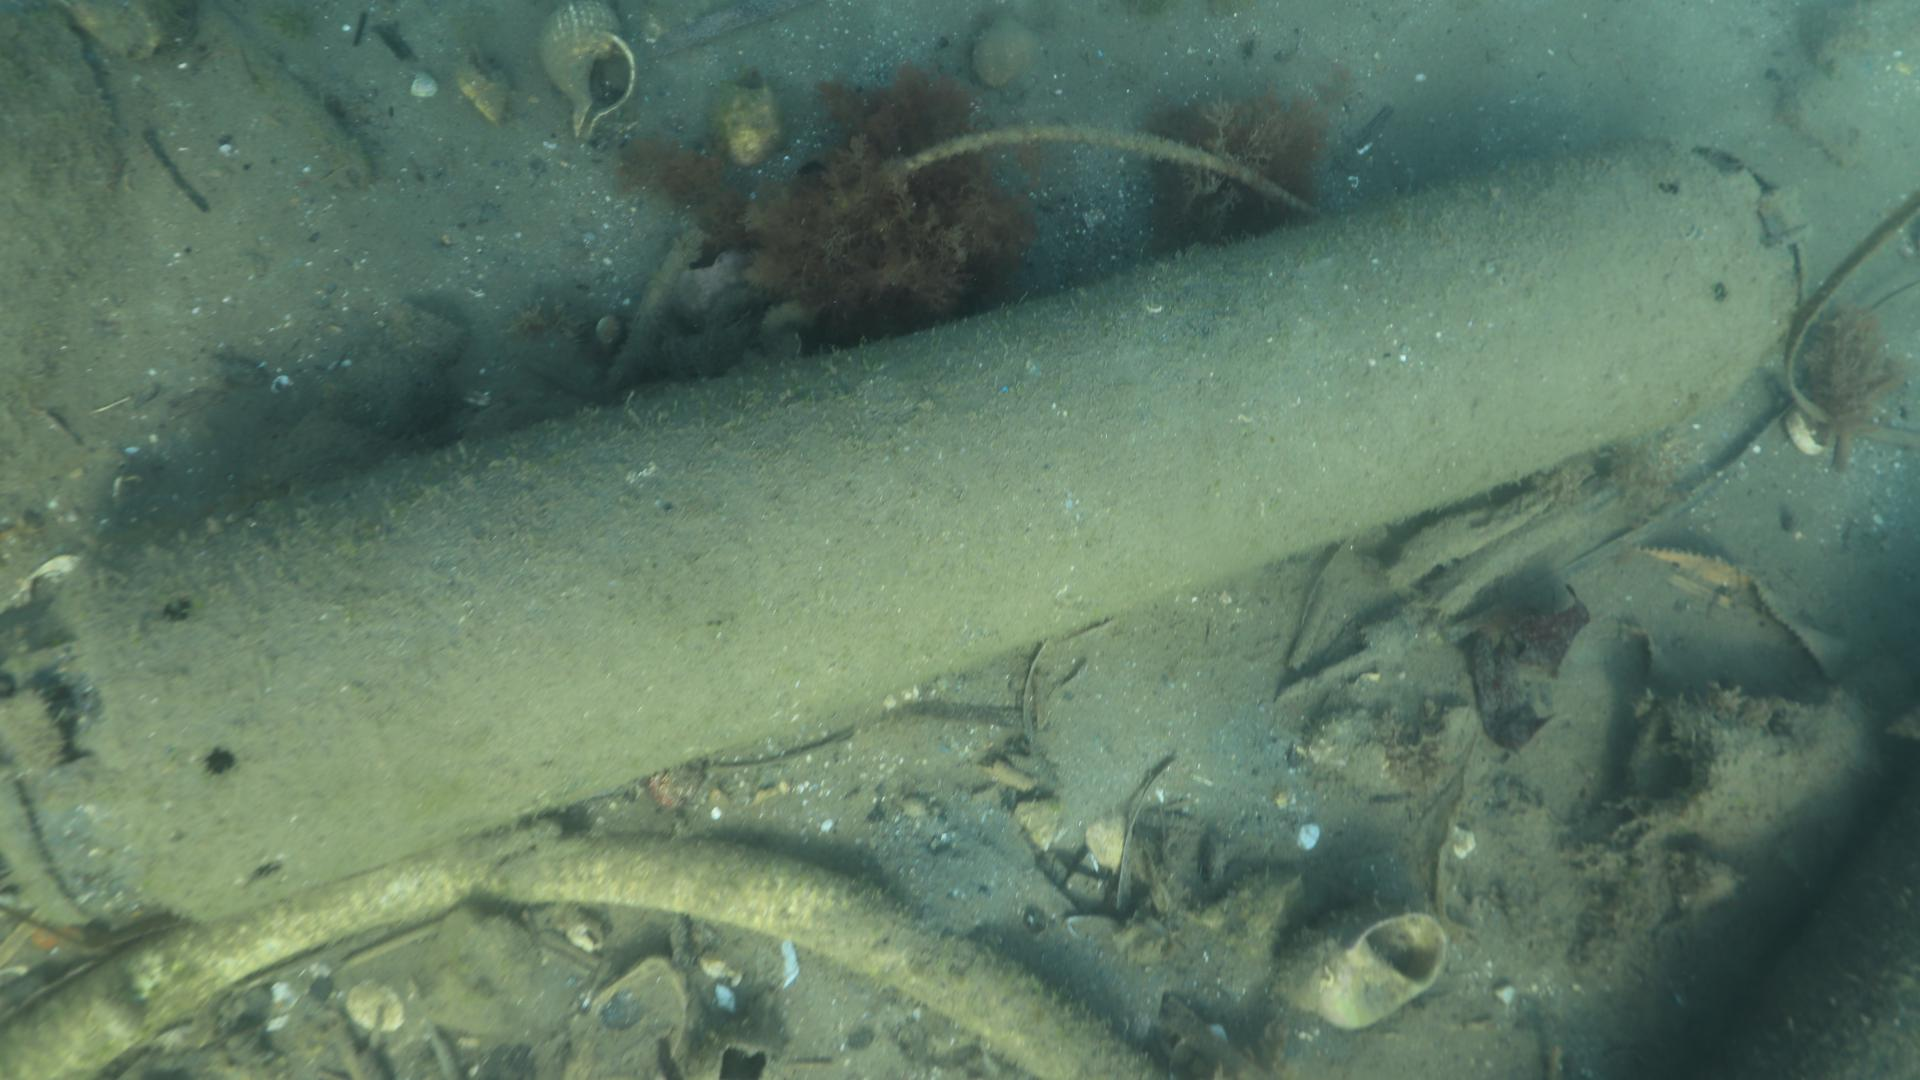eel fish trap: (0, 132, 1799, 931)
